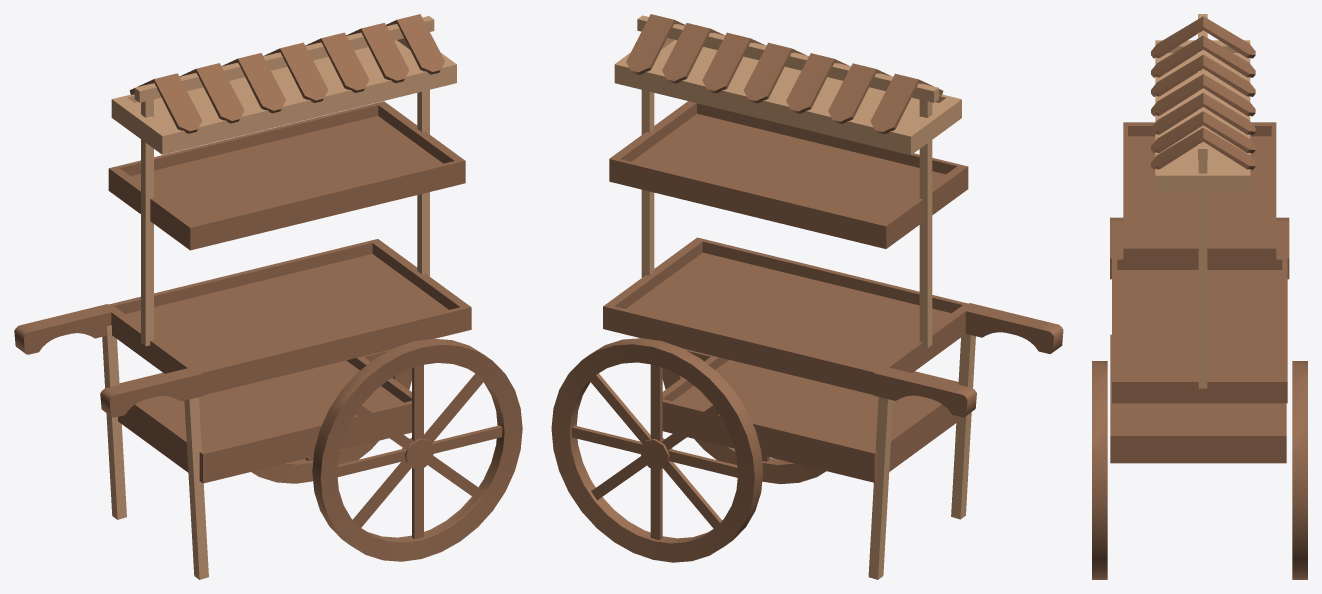
Rendered from Caseta 2.fbx.
The picture shows the model from 3 angles, left to right: view 1: azimuth 30°, elevation 25°; view 2: azimuth 150°, elevation 25°; view 3: azimuth 270°, elevation 25°; orthographic projection. The views are drawn at different scales.
Parts seen in each view (by area): view 1: Carro; view 2: Carro; view 3: Carro.
Part boxes in pixels (x1=…): Carro: x1=14, y1=14, x2=522, y2=579; Carro: x1=551, y1=14, x2=1063, y2=579; Carro: x1=1092, y1=14, x2=1307, y2=579.
Size of the model in its own units: 307 by 354 by 151.
